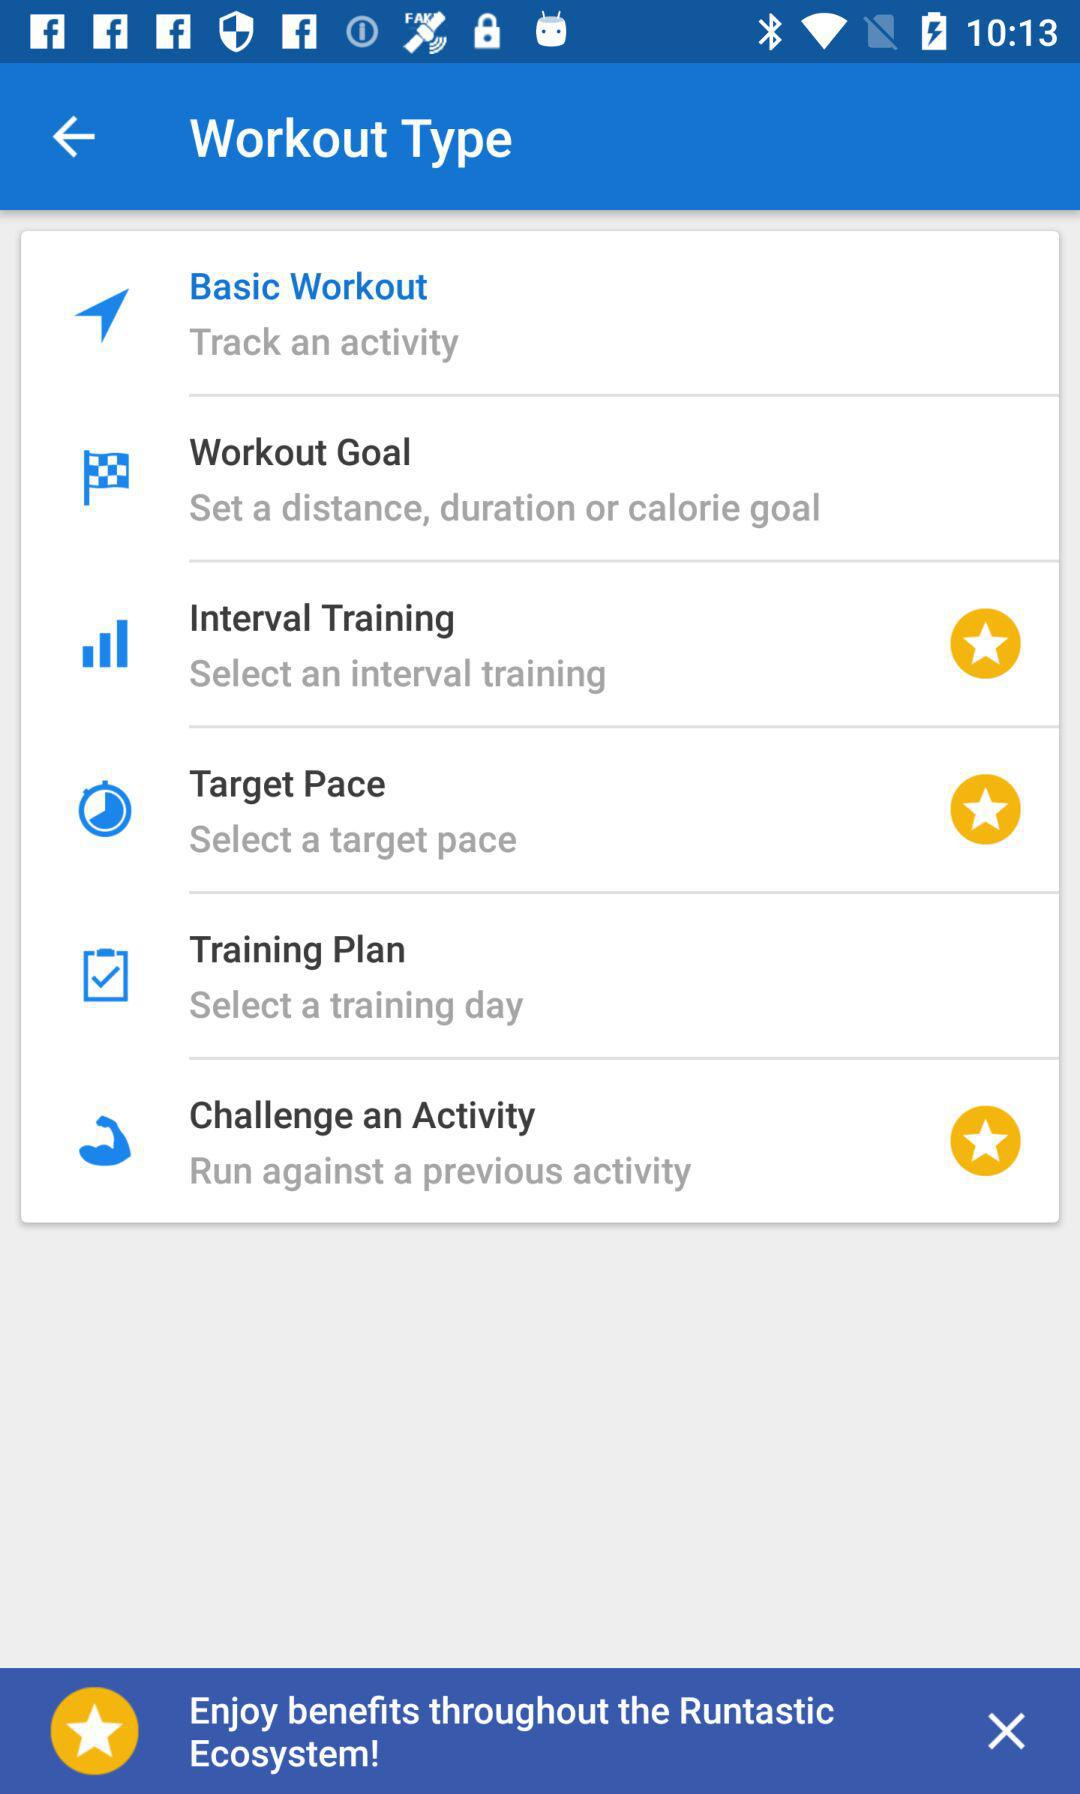Card: (20, 229, 1061, 1225)
Icon: (50, 1686, 141, 1777), (948, 771, 1024, 848), (949, 605, 1024, 682), (949, 1105, 1022, 1178), (78, 779, 135, 839), (74, 287, 129, 345), (83, 948, 131, 1005), (82, 619, 129, 669), (53, 114, 97, 161), (986, 1711, 1027, 1752)
Image: (79, 1114, 135, 1167), (83, 450, 132, 507)
Text: (190, 1694, 837, 1776), (190, 492, 820, 531), (190, 1156, 693, 1193), (188, 117, 514, 170), (190, 657, 607, 696), (190, 823, 518, 862), (190, 989, 525, 1028), (190, 1099, 537, 1137), (190, 325, 460, 365), (191, 602, 455, 641), (190, 933, 406, 973), (191, 270, 429, 302), (190, 769, 387, 806), (190, 437, 411, 468)
Toolbar: (1, 63, 1080, 211)
UpperTaskBar: (1, 1, 1080, 64)
